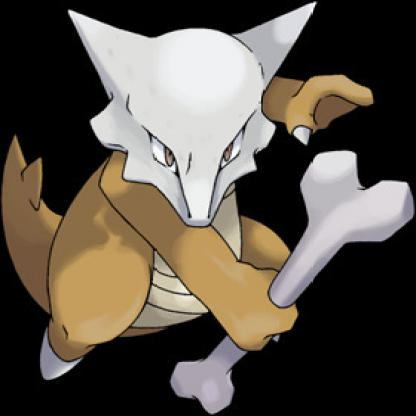Marowak: (1, 9, 416, 416)
